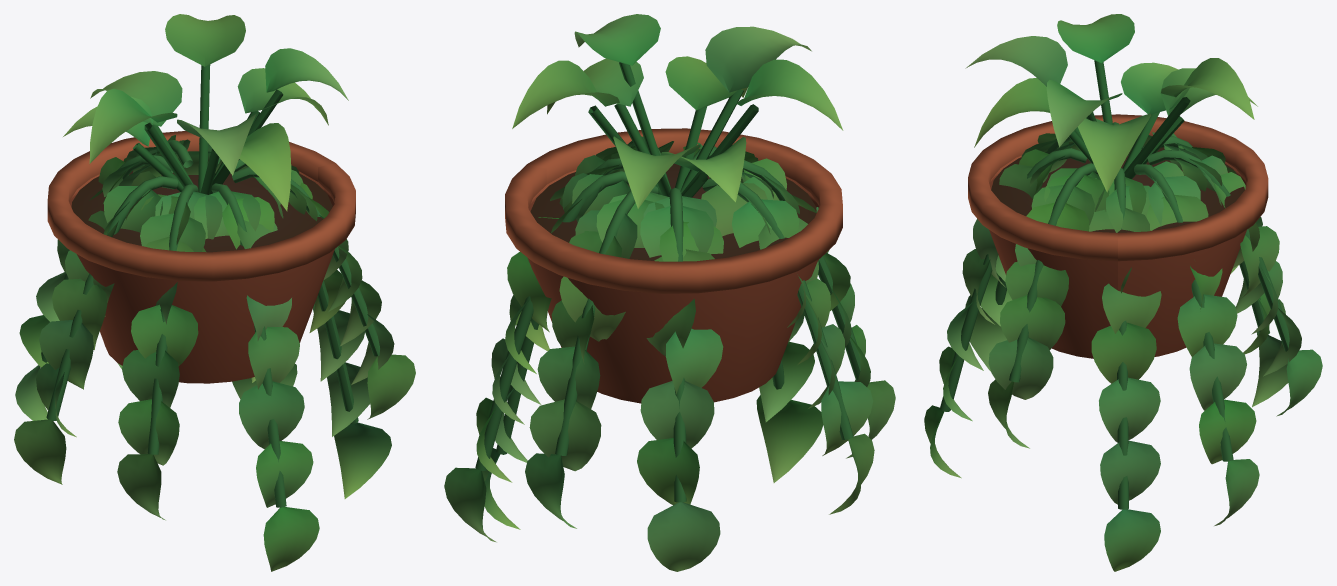
File: jiboia.glb
3 views of the same model, side by side, from view 1: azimuth 30°, elevation 25°; view 2: azimuth 150°, elevation 25°; view 3: azimuth 270°, elevation 25° (orthographic). The views are drawn at different scales.
Parts seen in each view (by area): view 1: jiboia; view 2: jiboia; view 3: jiboia.
Part boxes in pixels (x1=…): jiboia: x1=14, y1=14, x2=415, y2=571; jiboia: x1=444, y1=14, x2=895, y2=571; jiboia: x1=924, y1=14, x2=1322, y2=571.
Size of the model in its own units: 0.2583 by 0.3191 by 0.2533.
